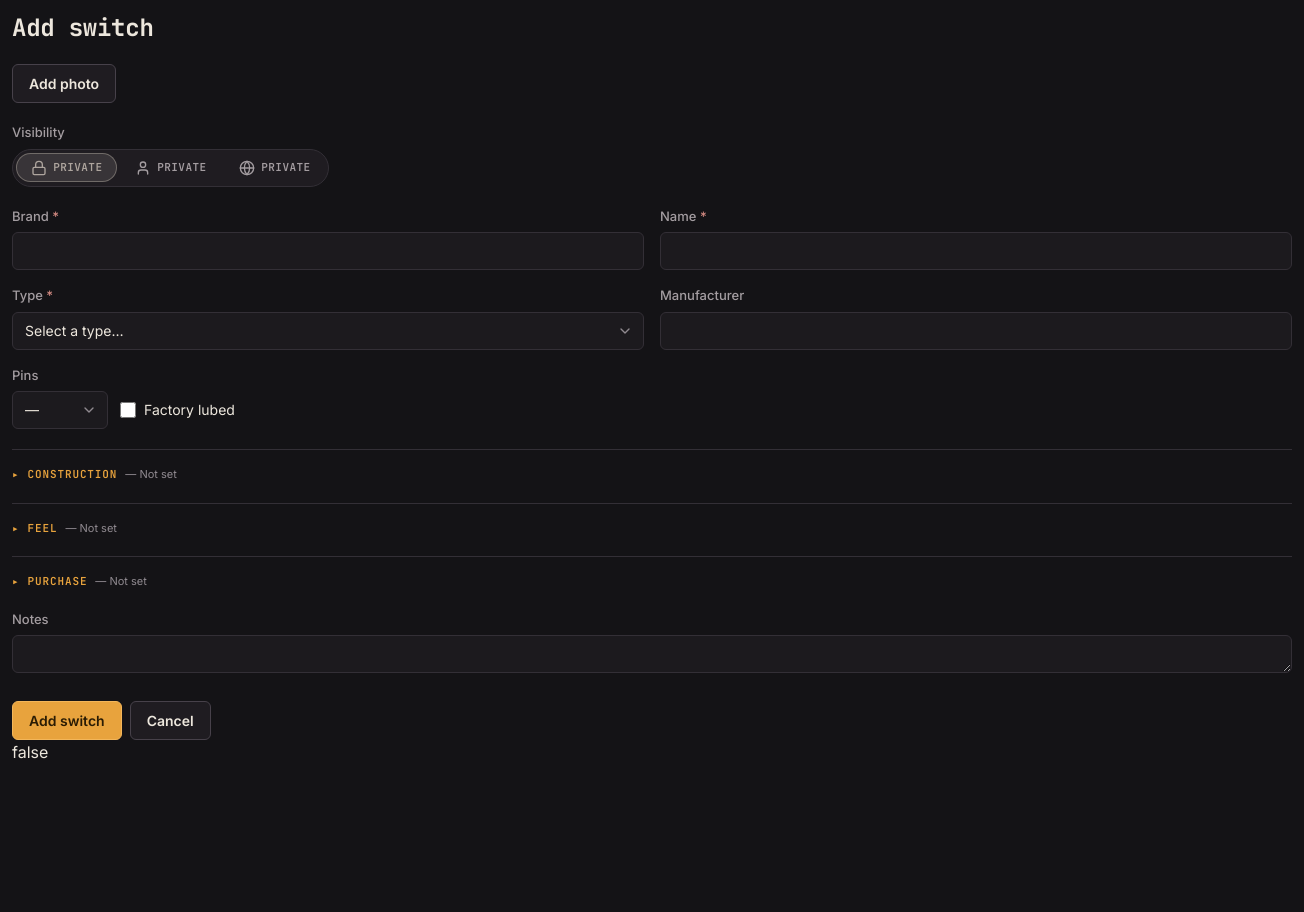
Test: SwitchForm.svelte › ticks factory lubed when its text is clicked
Click the text "Factory lubed".
click(189, 410)  # box top-left (144, 400), bottom-right (235, 420)
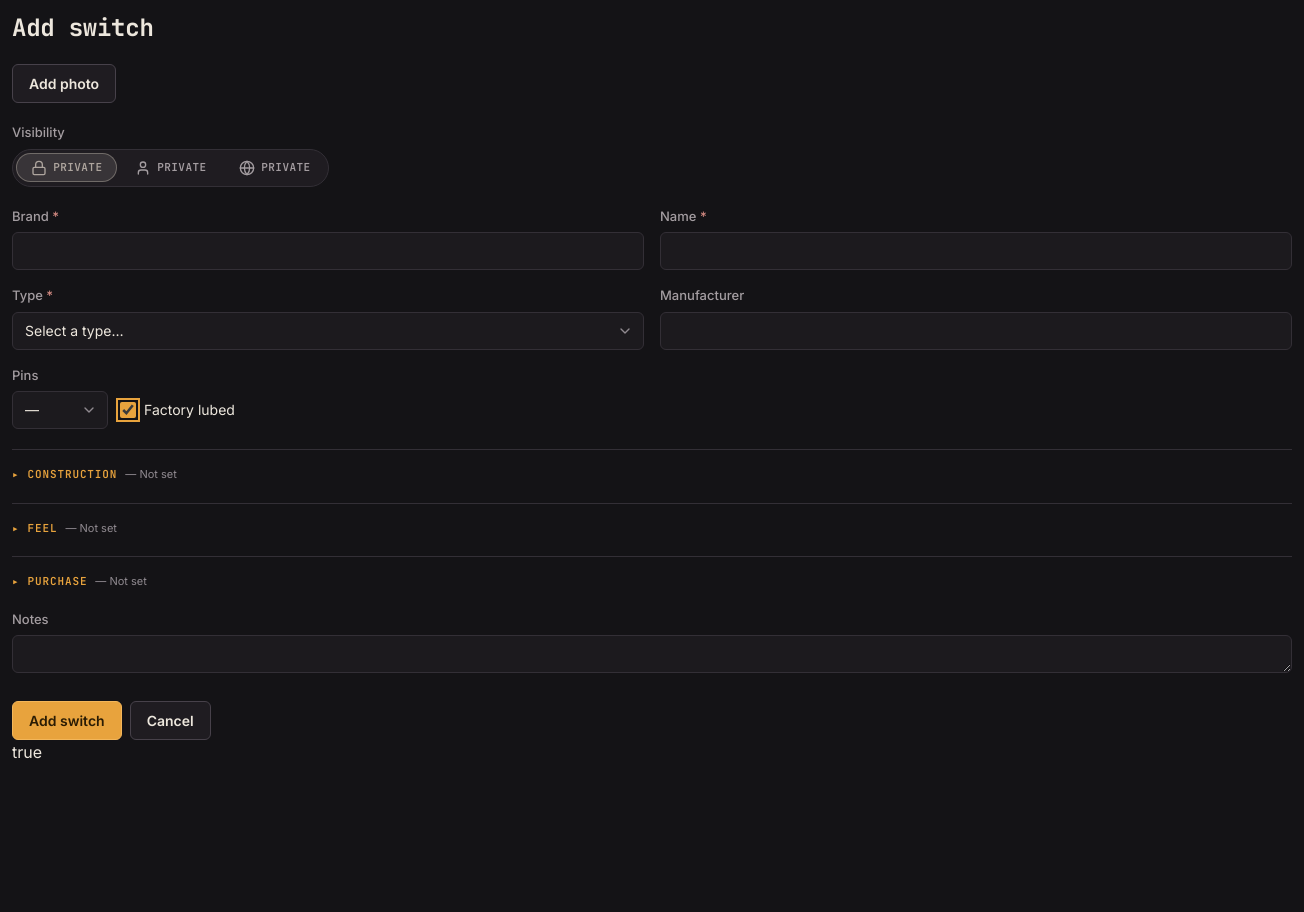
expect the checkbox labelled "Factory lubed" is checked: met, box top-left (120, 402), bottom-right (136, 418)
